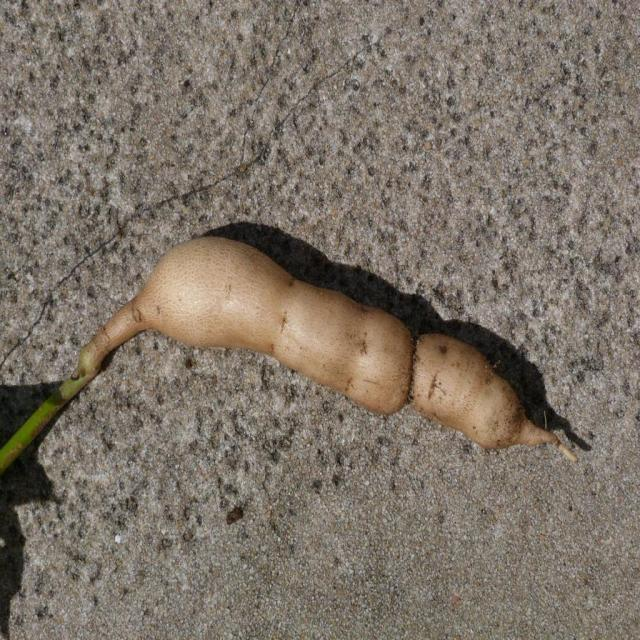Potato: (83, 234, 575, 460)
